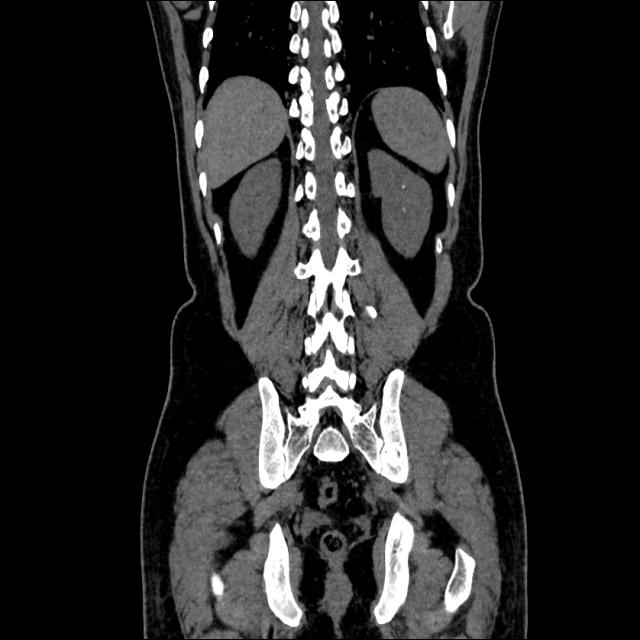kidneystone: (367, 305, 378, 319)
